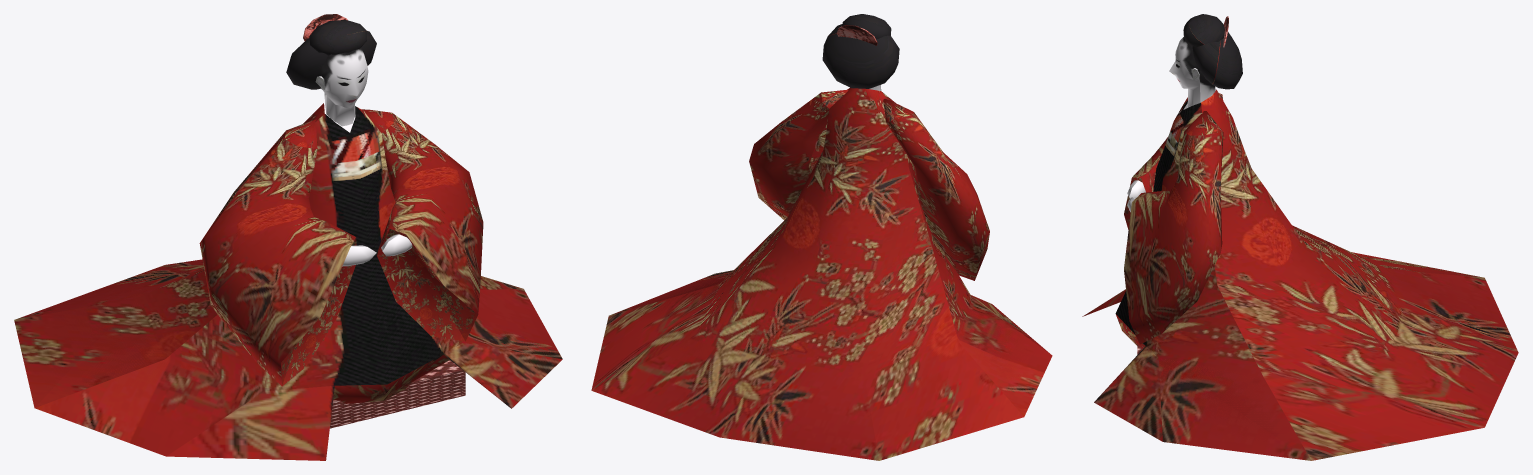
Rendered from GeishaSculpture1.c.fbx.
The picture shows the model from 3 angles, left to right: view 1: azimuth 30°, elevation 25°; view 2: azimuth 150°, elevation 25°; view 3: azimuth 270°, elevation 25°; orthographic projection. The views are drawn at different scales.
Visible parts, largest first — view 1: Group 0; view 2: Group 0; view 3: Group 0.
Part boxes in pixels (x1,y1,x2,y2): Group 0: [14, 14, 562, 460]; Group 0: [591, 14, 1052, 460]; Group 0: [1082, 14, 1518, 460].
Size of the model in its own units: 66.12 by 47.57 by 56.44.
1 material, 1 textured.
